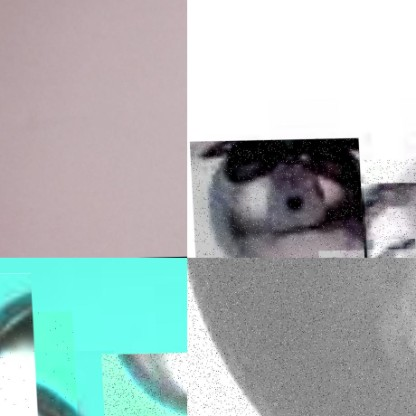ironball: (187, 257, 415, 415), (187, 139, 362, 257), (99, 352, 187, 415), (359, 160, 415, 257)
